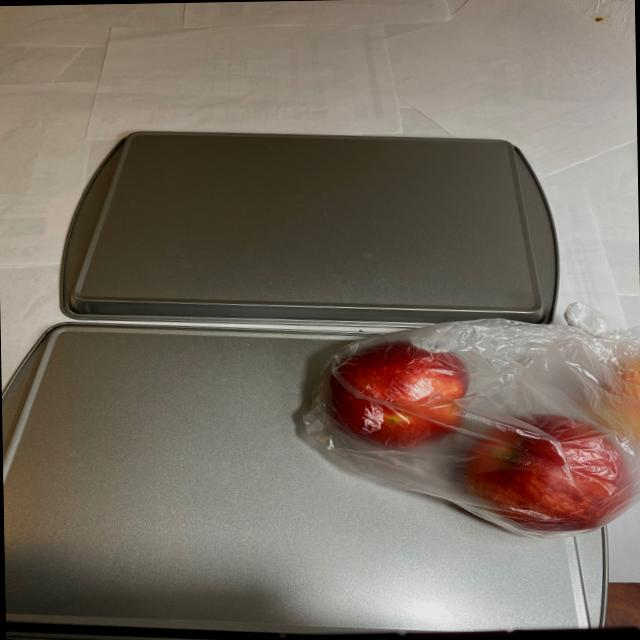apple: (321, 333, 640, 544)
